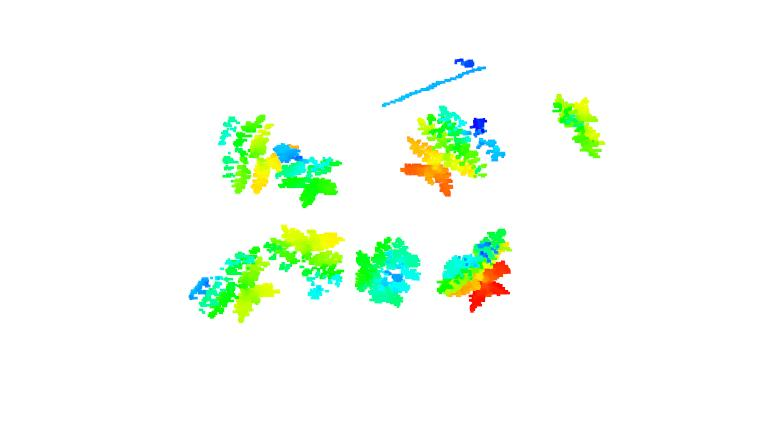chickpea: (398, 104, 512, 196), (188, 245, 281, 326), (436, 226, 512, 313), (264, 222, 345, 300), (215, 111, 280, 194), (353, 235, 423, 311), (274, 143, 341, 208), (551, 91, 606, 160)
